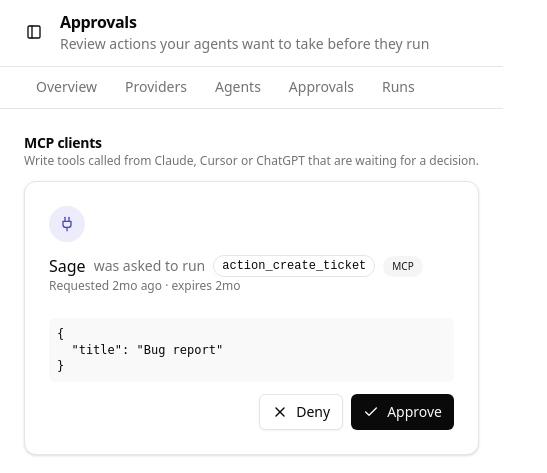
Test: ApprovalsPage › lists MCP approvals and records an approve decision
Expected: the heading "MCP clients" is shown, 24,133 -> 102,152
Expected: the text "action_create_ticket" is shown, 213,255 -> 375,277
What coordinates should you click on to do the following:
click the button "Approve"
I would click on:
 (403, 412)
Its box is 351,394 -> 454,430.
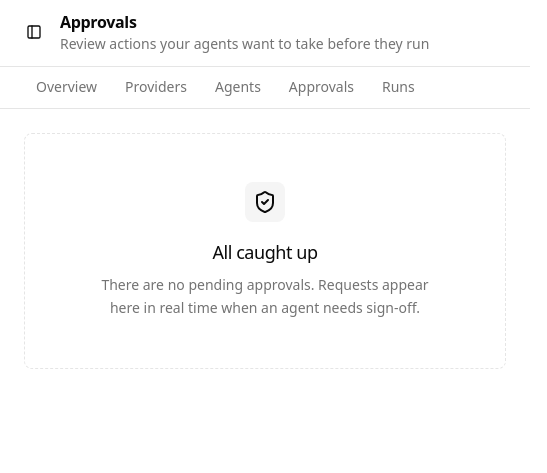
Expected: the text "action_create_ticket" is gone
